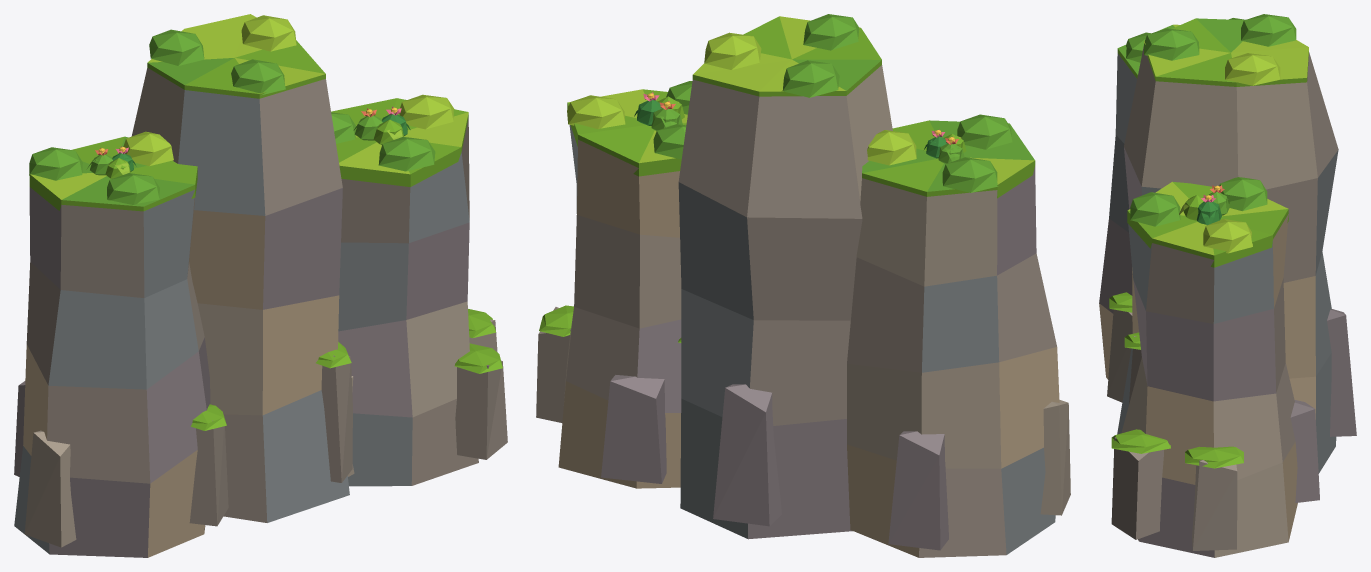
File: cliff_columns.glb
3 renders of one model, left to right at view 1: azimuth 30°, elevation 25°; view 2: azimuth 150°, elevation 25°; view 3: azimuth 270°, elevation 25°, orthographic. The views are drawn at different scales.
Parts seen in each view (by area): view 1: cliff_columns_MOBILE_LOD1; view 2: cliff_columns_MOBILE_LOD1; view 3: cliff_columns_MOBILE_LOD1.
Part boxes in pixels (bbox=[...]): cliff_columns_MOBILE_LOD1: bbox=[14, 14, 507, 557]; cliff_columns_MOBILE_LOD1: bbox=[536, 14, 1070, 557]; cliff_columns_MOBILE_LOD1: bbox=[1099, 14, 1356, 557].
Size of the model in its own units: 10.67 by 9.29 by 5.16.
